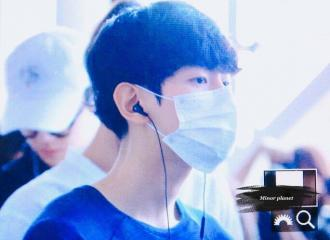NONE: (21, 102, 88, 169)
OK: (132, 62, 242, 172)
